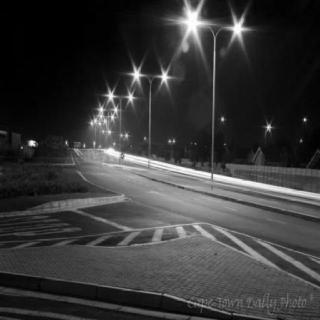other: (89, 64, 173, 128)
